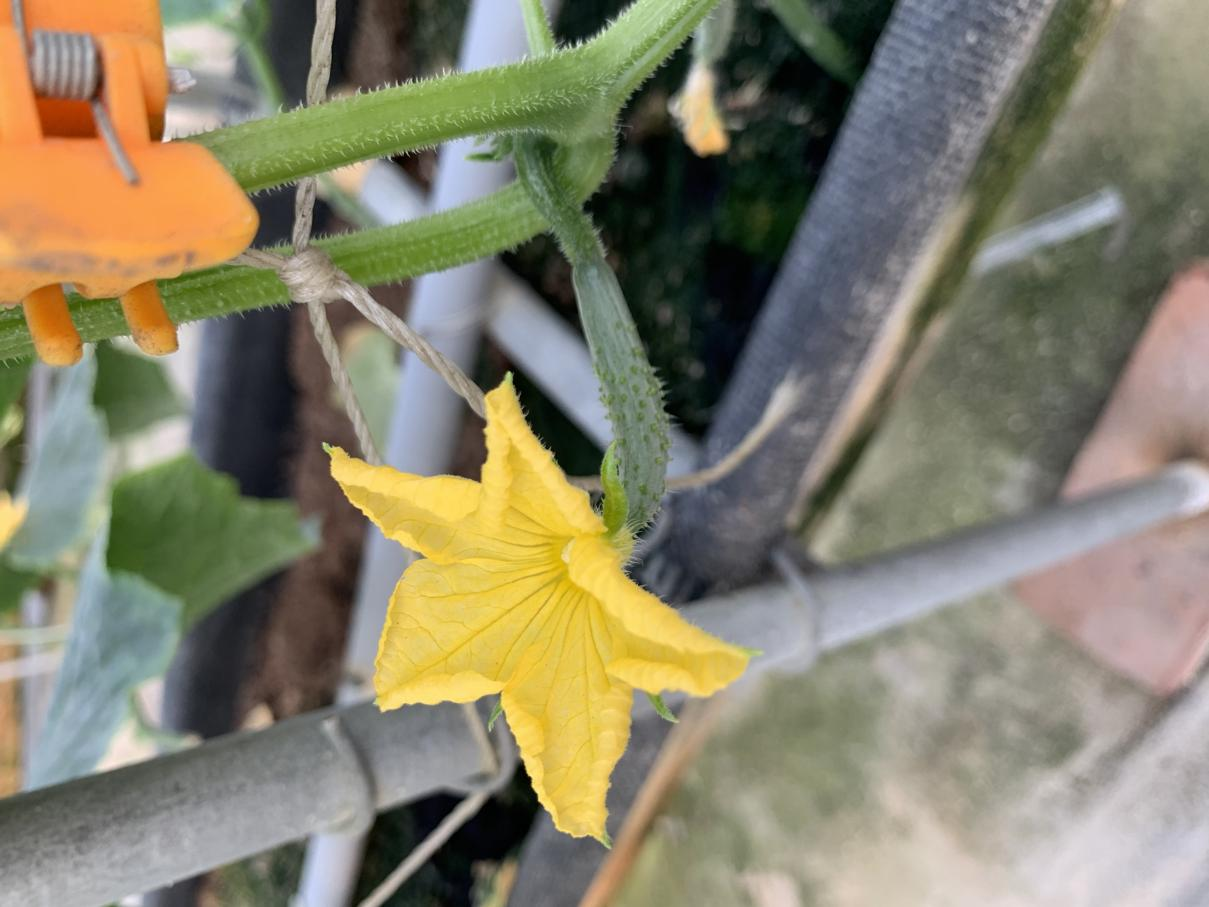flower: (313, 364, 738, 851)
